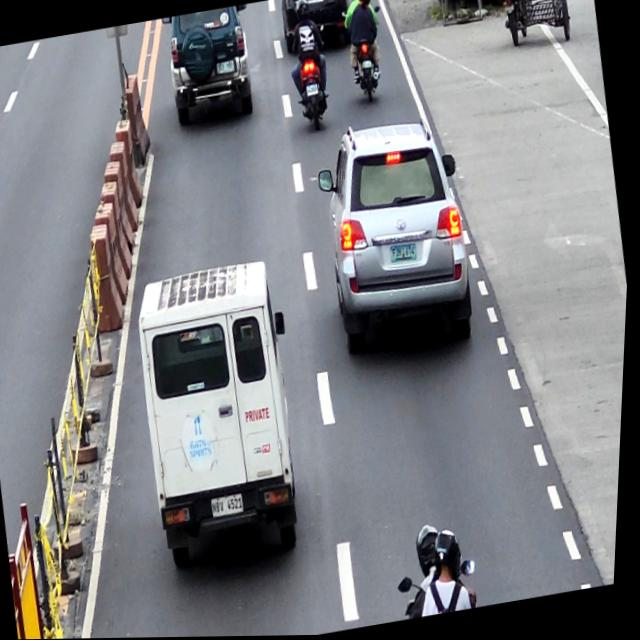Car: (124, 257, 326, 575), (307, 110, 488, 365), (158, 4, 264, 128), (279, 0, 356, 56)
License-Plate: (215, 495, 250, 519), (391, 243, 420, 265), (305, 84, 321, 98), (361, 60, 374, 72), (306, 0, 325, 5)
Motorcycle: (282, 24, 340, 136), (341, 4, 392, 105)
Tricycle: (495, 0, 575, 51)
